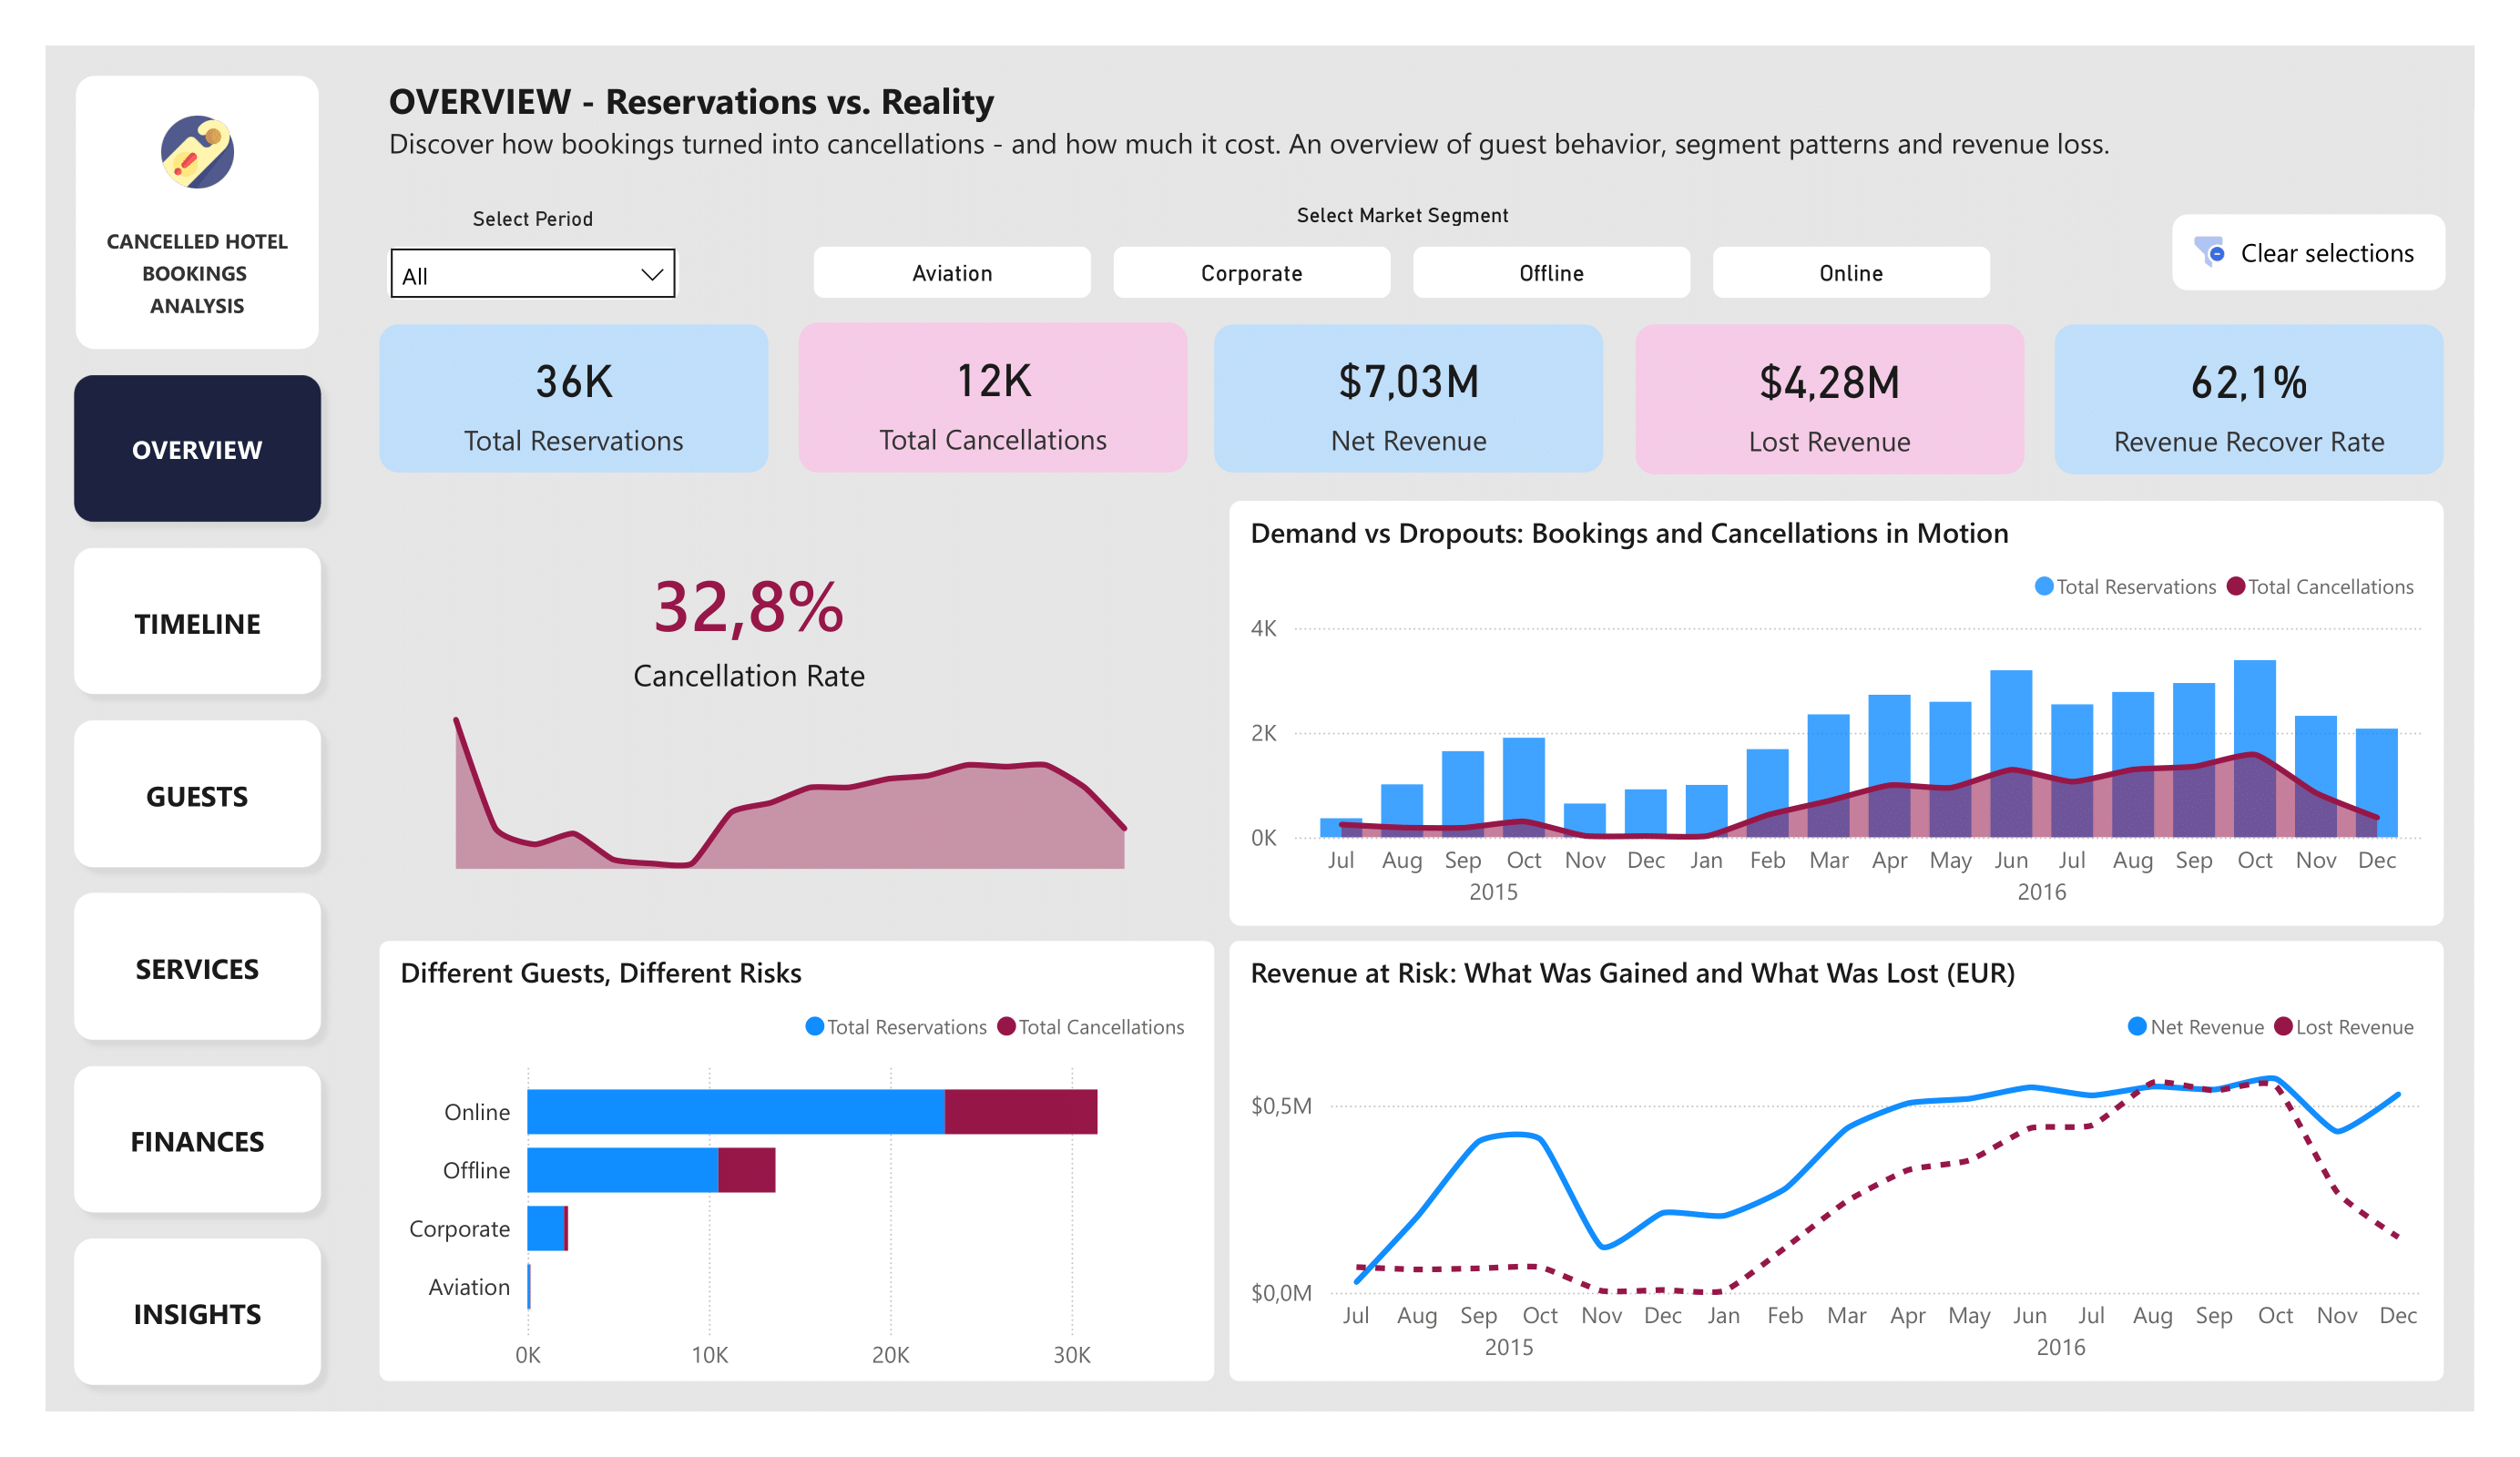

The page's visual inventory and layout, read from the dashboard file:
{"tool":"powerbi","page":{"name":"OVERVIEW","canvas":[1280,720],"ordinal":0},"visuals":[{"type":"textbox","box":[16,16,128,144],"z":0},{"type":"advancedSlicerVisual","title":"Select Market Segment","fields":{"Values":["Reservations.Market segment"]},"box":[399.9,73,631,64],"z":0,"group":"g1"},{"type":"shape","box":[180,106,154,28],"z":0,"group":"g5"},{"type":"card","fields":{"Values":["_Measures.Total reservations"]},"box":[176,147,205,78.2],"z":0,"group":"g3"},{"type":"card","fields":{"Values":["_Measures.Cancellation Rate"]},"box":[254.2,256,234.3,97.1],"z":0,"group":"g4"},{"type":"slicer","title":" Select Period","fields":{"Values":["Calendar.Date.Variation.Date Hierarchy.Year","Calendar.Date.Variation.Date Hierarchy.Quarter","Calendar.Date.Variation.Date Hierarchy.Month"]},"box":[177,85,160,48],"z":1000,"group":"g5"},{"type":"card","fields":{"Values":["_Measures.Total canceled reservations"]},"box":[396.6,146,205,78.9],"z":1000,"group":"g3"},{"type":"pageNavigator","box":[8.2,167.2,144.3,549.2],"z":1000},{"type":"areaChart","fields":{"Category":["Calendar.Month Short Name Hierarchy.Year","Calendar.Month Short Name Hierarchy.Month Short Name"],"Y":["_Measures.Cancellation Rate"]},"box":[208,330.6,369.4,109.7],"z":1000,"group":"g4"},{"type":"image","box":[48,32,64,48],"z":2000},{"type":"group","id":"g1","title":"Group 3","box":[399.9,73,864.1,64],"z":2000,"group":"g6"},{"type":"group","id":"g2","title":"Group 2","box":[1119.5,89,144.5,40],"z":2000,"group":"g1"},{"type":"card","fields":{"Values":["_Measures.Total revenue"]},"box":[615.7,146.6,205,78.3],"z":2000,"group":"g3"},{"type":"group","id":"g3","title":"Group 1","box":[176,146,1088,80],"z":3000},{"type":"card","fields":{"Values":["_Measures.Lost revenue"]},"box":[838.2,147.1,205,78.9],"z":3000,"group":"g3"},{"type":"card","fields":{"Values":["_Measures.Revenue recover rate"]},"box":[1059,147.1,205,78.9],"z":4000,"group":"g3"},{"type":"barChart","title":"Different Guests, Different Risks","fields":{"Category":["Reservations.Market segment"],"Y":["_Measures.Total reservations","_Measures.Total cancellations"]},"box":[176,472,440,232],"z":4000},{"type":"lineStackedColumnComboChart","title":"Demand vs Dropouts: Bookings and Cancellations in Motion","fields":{"Y":["_Measures.Total reservations"],"Y2":["_Measures.Total cancellations"],"Category":["Calendar.Month Short Name Hierarchy.Year","Calendar.Month Short Name Hierarchy.Month Short Name"]},"box":[624,240,640,224],"z":5000},{"type":"textbox","box":[176,6,1088,68],"z":6000},{"type":"actionButton","box":[1120.1,89,143.9,40],"z":6000,"group":"g2"},{"type":"lineChart","title":"Revenue at Risk: What Was Gained and What Was Lost (EUR)","fields":{"Category":["Calendar.Month Short Name Hierarchy.Year","Calendar.Month Short Name Hierarchy.Month Short Name"],"Y":["_Measures.Total Revenue"],"Y2":["_Measures.Total Lost Revenue"]},"box":[624,472,640,232],"z":7000},{"type":"group","id":"g4","title":"Group 5","box":[208,256,368,192],"z":8000},{"type":"group","id":"g5","title":"Group 4","box":[177,85,160,49],"z":8001,"group":"g6"},{"type":"group","id":"g6","title":"Group 6","box":[177,73,1087,64],"z":9000},{"type":"image","box":[1119.5,93,40,32],"z":11000,"group":"g2"}]}

Visuals, with their boxes on the page's 1280x720 design canvas (x1, y1, x2, y2). These are canvas units, not pixel positions in the 2520x1457 screenshot, which may show the page scaled, cropped or inside an application window:
textbox: 16/16/144/160
"Select Market Segment" advancedSlicerVisual: 400/73/1031/137
shape: 180/106/334/134
card - _Measures.Total reservations: 176/147/381/225
card - _Measures.Cancellation Rate: 254/256/488/353
" Select Period" slicer: 177/85/337/133
card - _Measures.Total canceled reservations: 397/146/602/225
pageNavigator: 8/167/152/716
areaChart - Calendar.Month Short Name Hierarchy.Year x Calendar.Month Short Name Hierarchy.Month Short Name: 208/331/577/440
image: 48/32/112/80
"Group 3" group: 400/73/1264/137
"Group 2" group: 1120/89/1264/129
card - _Measures.Total revenue: 616/147/821/225
"Group 1" group: 176/146/1264/226
card - _Measures.Lost revenue: 838/147/1043/226
card - _Measures.Revenue recover rate: 1059/147/1264/226
"Different Guests, Different Risks" barChart: 176/472/616/704
"Demand vs Dropouts: Bookings and Cancellations in Motion" lineStackedColumnComboChart: 624/240/1264/464
textbox: 176/6/1264/74
actionButton: 1120/89/1264/129
"Revenue at Risk: What Was Gained and What Was Lost (EUR)" lineChart: 624/472/1264/704
"Group 5" group: 208/256/576/448
"Group 4" group: 177/85/337/134
"Group 6" group: 177/73/1264/137
image: 1120/93/1160/125
